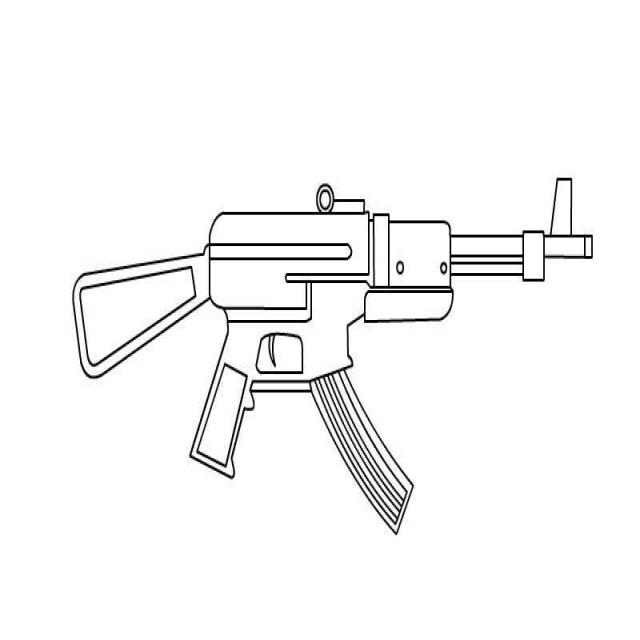gun: (71, 175, 593, 533)
